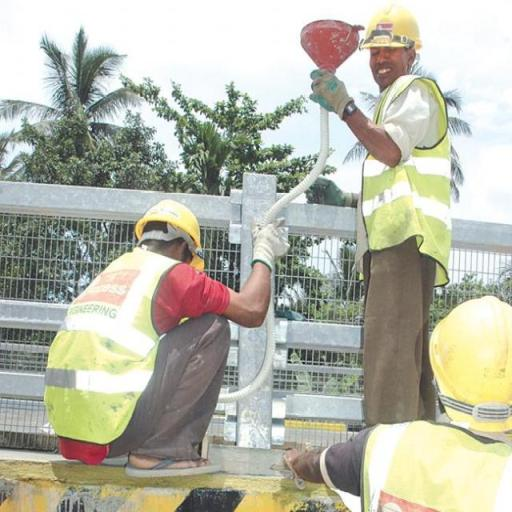helmet: (426, 292, 512, 415), (133, 194, 207, 252), (358, 2, 426, 52)
vest: (37, 249, 181, 453), (355, 73, 459, 270), (356, 410, 510, 512)
